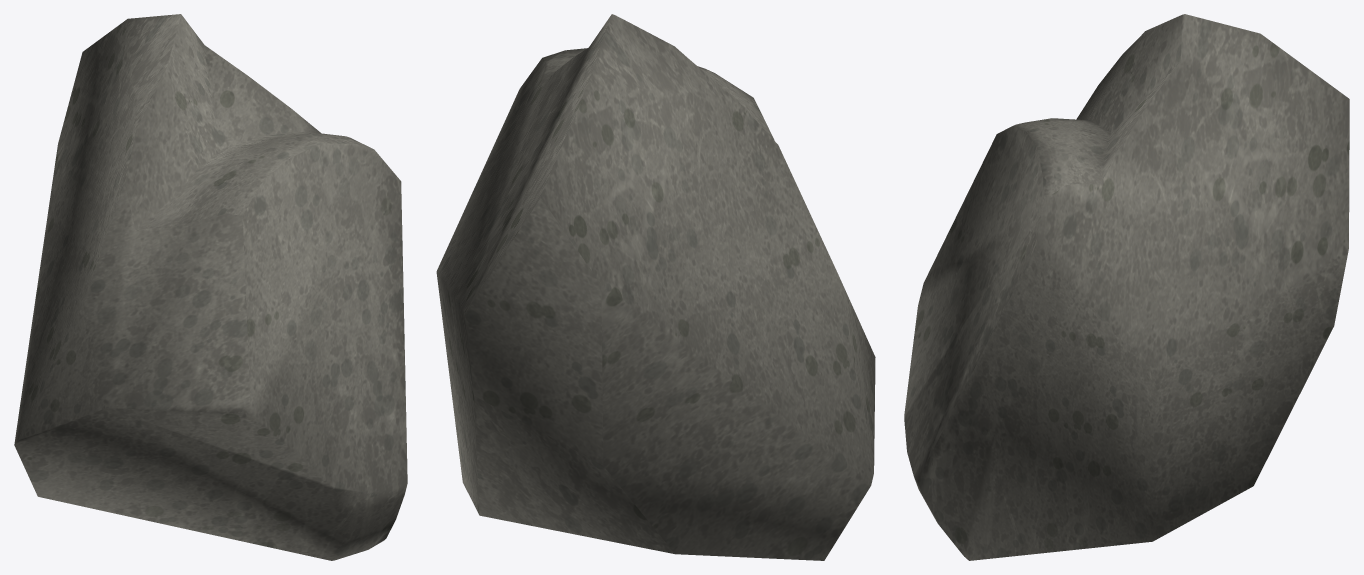
The model's file is rock4.fbx.
The picture shows the model from 3 angles, left to right: view 1: azimuth 30°, elevation 25°; view 2: azimuth 150°, elevation 25°; view 3: azimuth 270°, elevation 25°; orthographic projection. The views are drawn at different scales.
Visible parts, largest first — view 1: rock.003; view 2: rock.003; view 3: rock.003.
Part boxes in pixels (box(x1,y1,x2,y2)): rock.003: box(14, 14, 407, 560); rock.003: box(436, 14, 875, 560); rock.003: box(904, 14, 1349, 560).
Bounding box in the file's own units: 303 × 393 × 319.
